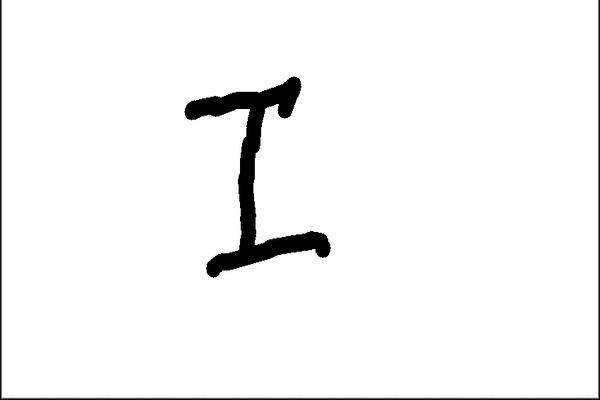i: (182, 70, 338, 281)
